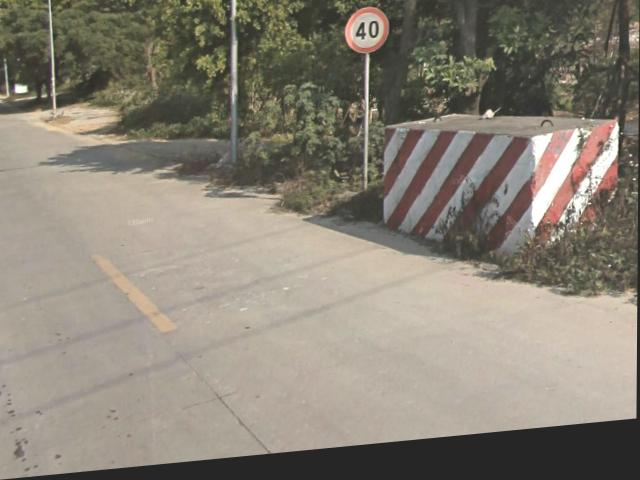limit40: (346, 12, 391, 60)
